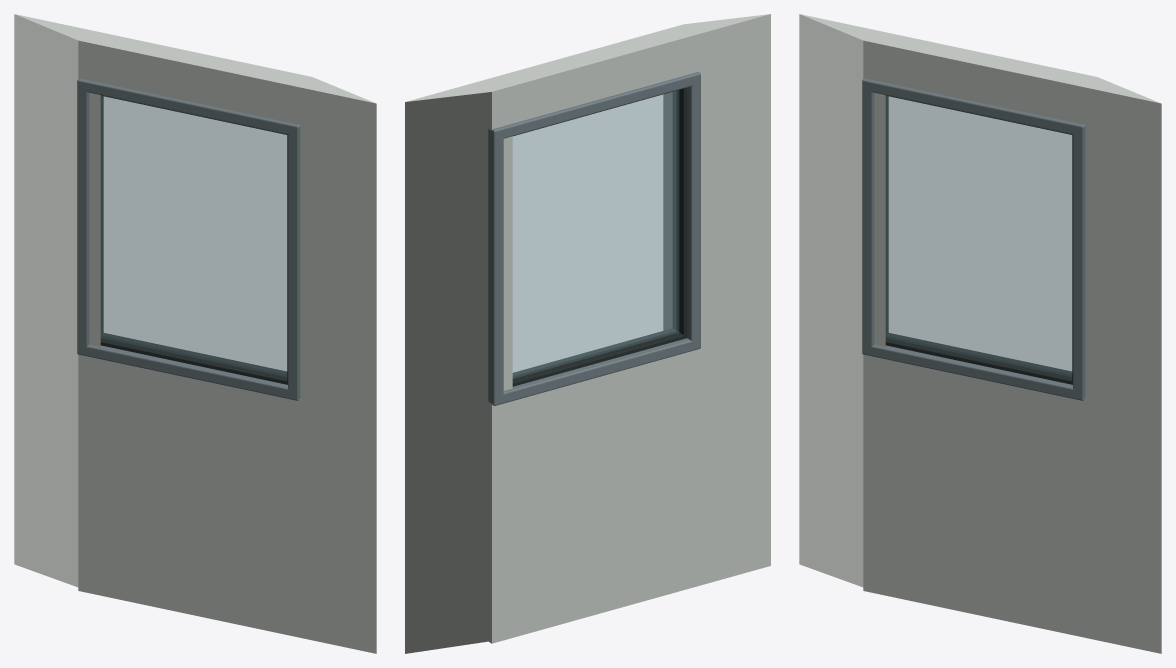
The model's file is cabin_window_26_port.glb.
The picture shows the model from 3 angles, left to right: view 1: azimuth 90°, elevation 25°; view 2: azimuth 150°, elevation 25°; view 3: azimuth 270°, elevation 25°; orthographic projection.
Visible parts, largest first — view 1: Wall below window.001, Transparent glazing.001, Wall right jamb.001, Wall left jamb.001, Wall header.001, Window frame upright.002, Window frame upright.003, Window frame horizontal.002, Window frame horizontal.003, Rubber gasket horizontal.002, Rubber gasket upright.003; view 2: Wall right jamb.001, Wall below window.001, Wall left jamb.001, Transparent glazing.001, Wall header.001, Window frame upright.003, Rubber gasket upright.002, Window frame upright.002, Window frame horizontal.002, Window frame horizontal.003, Rubber gasket horizontal.002; view 3: Wall below window.001, Transparent glazing.001, Wall left jamb.001, Wall right jamb.001, Wall header.001, Window frame upright.003, Window frame upright.002, Window frame horizontal.002, Window frame horizontal.003, Rubber gasket horizontal.002, Rubber gasket upright.002.
Part boxes in pixels (x1,y1,x2,y2): Wall below window.001: [78, 354, 300, 637]; Transparent glazing.001: [100, 96, 287, 376]; Wall right jamb.001: [14, 14, 100, 595]; Wall left jamb.001: [292, 72, 376, 653]; Wall header.001: [78, 30, 310, 124]; Window frame upright.002: [288, 126, 300, 400]; Window frame upright.003: [77, 80, 89, 355]; Window frame horizontal.002: [77, 344, 300, 400]; Window frame horizontal.003: [77, 78, 300, 135]; Rubber gasket horizontal.002: [100, 333, 287, 384]; Rubber gasket upright.003: [100, 96, 103, 334]; Wall right jamb.001: [405, 82, 512, 653]; Wall below window.001: [488, 349, 699, 643]; Wall left jamb.001: [663, 14, 770, 585]; Transparent glazing.001: [512, 90, 678, 378]; Wall header.001: [477, 26, 699, 129]; Window frame upright.003: [488, 129, 503, 405]; Rubber gasket upright.002: [672, 87, 687, 338]; Window frame upright.002: [687, 77, 700, 349]; Window frame horizontal.002: [494, 338, 700, 405]; Window frame horizontal.003: [488, 72, 700, 139]; Rubber gasket horizontal.002: [512, 328, 687, 386]; Wall below window.001: [863, 354, 1085, 637]; Transparent glazing.001: [885, 96, 1072, 376]; Wall left jamb.001: [799, 14, 885, 595]; Wall right jamb.001: [1077, 72, 1161, 653]; Wall header.001: [863, 30, 1094, 124]; Window frame upright.003: [1073, 126, 1085, 400]; Window frame upright.002: [862, 81, 874, 350]; Window frame horizontal.002: [862, 344, 1082, 400]; Window frame horizontal.003: [862, 78, 1085, 135]; Rubber gasket horizontal.002: [885, 333, 1072, 384]; Rubber gasket upright.002: [885, 96, 888, 334].
Size of the model in its own units: 0.7683 by 2.2 by 1.31.
